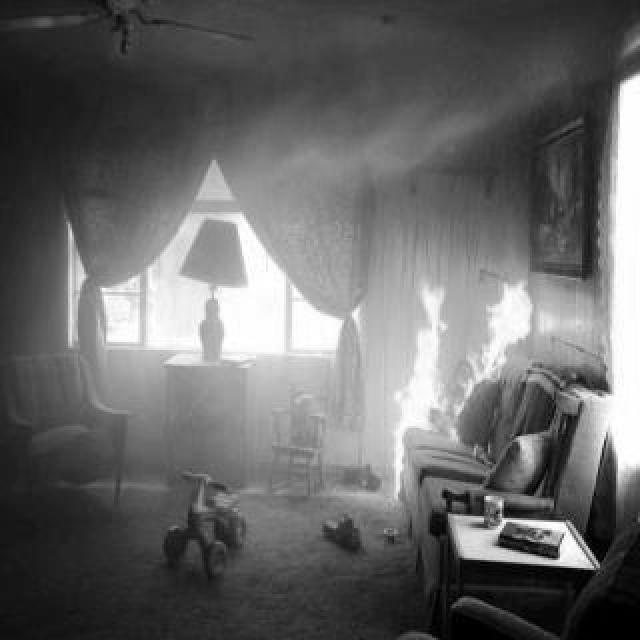Fire: (392, 280, 532, 432)
